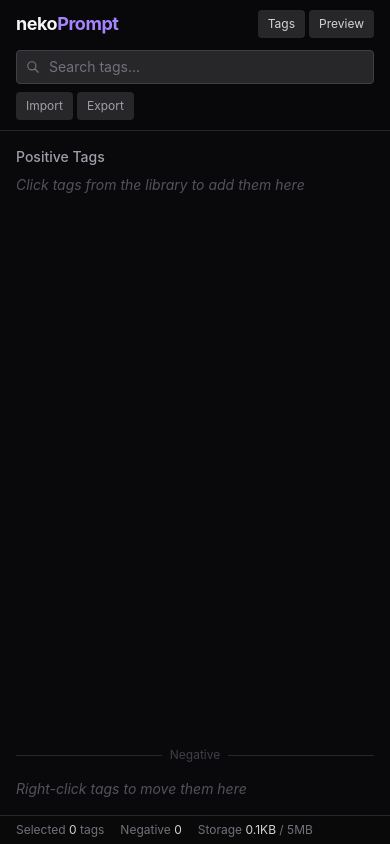
it: App responsive layout › opens the mobile tag library and preview drawers from the header
This screenshot has width=390, height=844.
Check: the element named "Workspace panel" is shown, box [16,148,305,797]
Check: the button "Preview" is shown, box [309,10,374,38]
Click the button "Tags": (281, 24) [258,10,305,38]
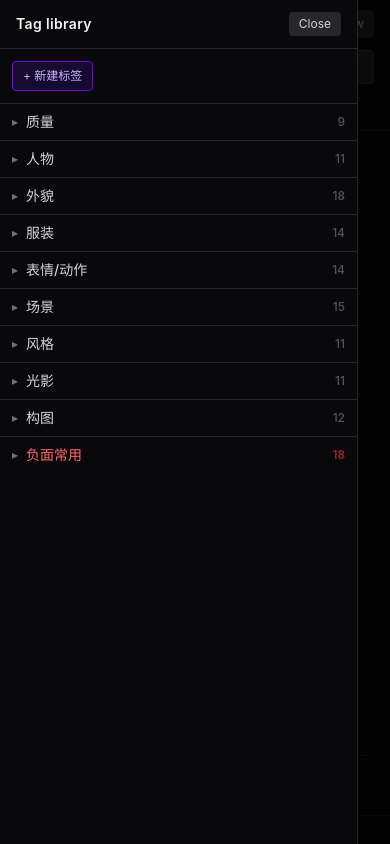
Check: the dialog "Tag library" is shown
Click the button named "Close tag library": (315, 24) [289,12,341,36]
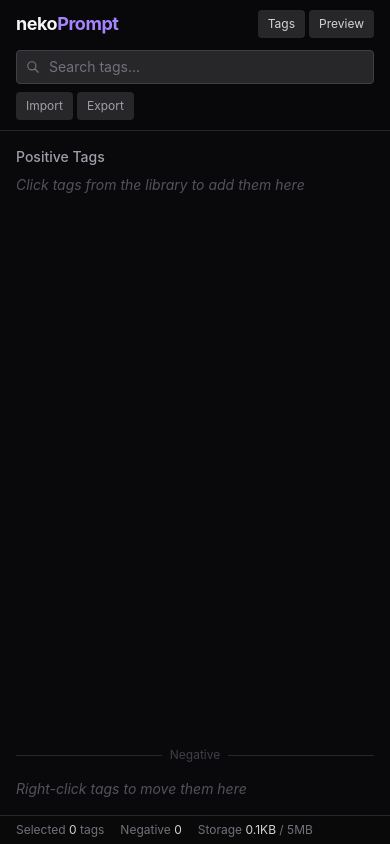
Check: the heading "Tag library" is gone
Click the button "Preview": (342, 24) [309,10,374,38]
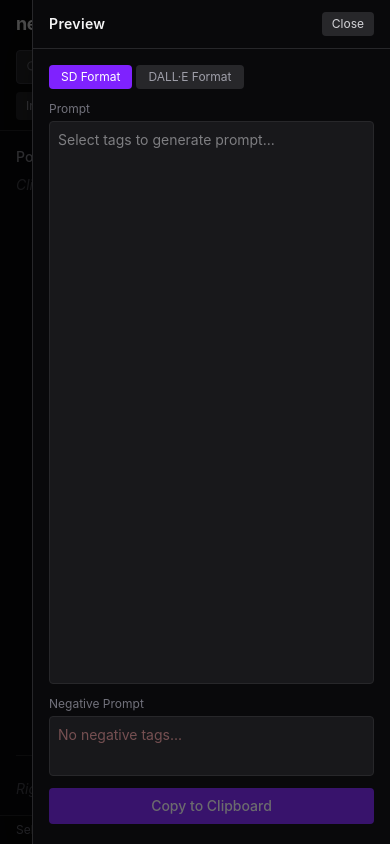
Check: the dialog "Preview" is shown
